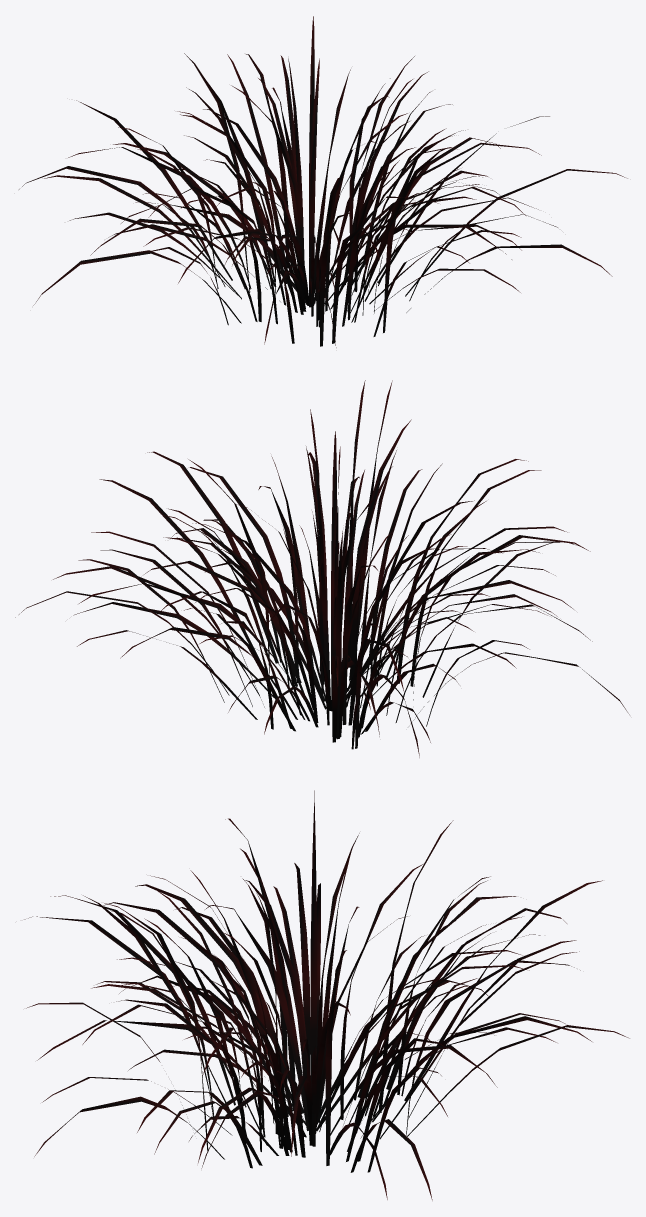
Rendered from Grass02F.fbx.
3 views of the same model, one above another, from view 1: azimuth 30°, elevation 25°; view 2: azimuth 150°, elevation 25°; view 3: azimuth 270°, elevation 25° (orthographic). The views are drawn at different scales.
Parts seen in each view (by area): view 1: Grass02F; view 2: Grass02F; view 3: Grass02F.
Part boxes in pixels (left/top/right/bottom): Grass02F: left=19, top=16, right=627, bottom=347; Grass02F: left=15, top=380, right=629, bottom=757; Grass02F: left=24, top=790, right=629, bottom=1200.
Size of the model in its own units: 3.02 by 1.34 by 2.57.
